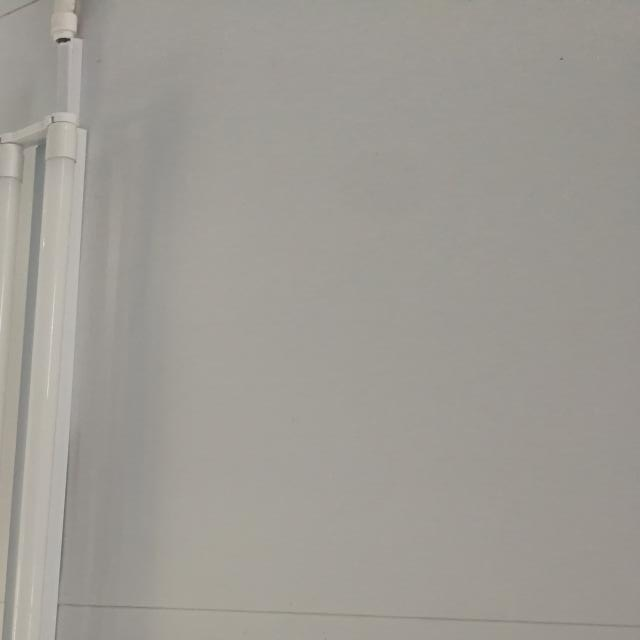fluorescent tube: (0, 95, 122, 640)
